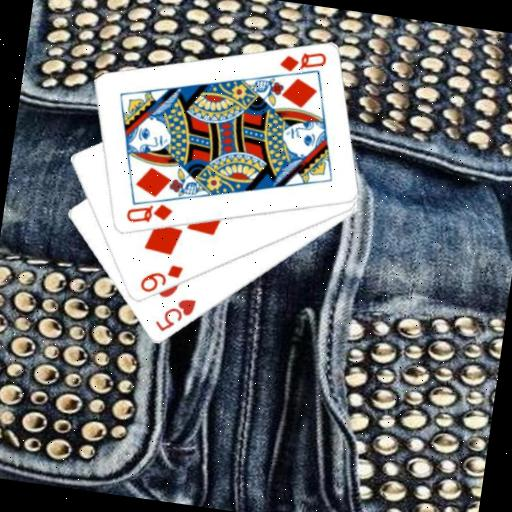5H: (151, 291, 199, 338)
9D: (136, 257, 186, 299)
QD: (122, 196, 176, 230), (275, 44, 329, 78)
